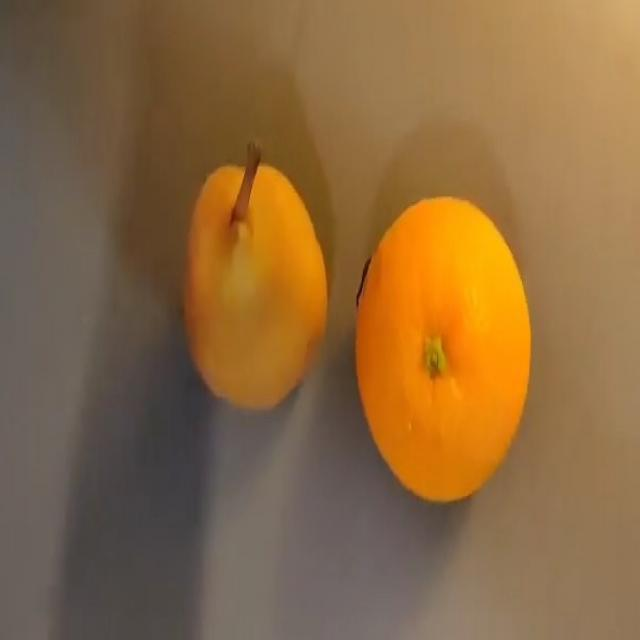Orange: (353, 194, 532, 503)
